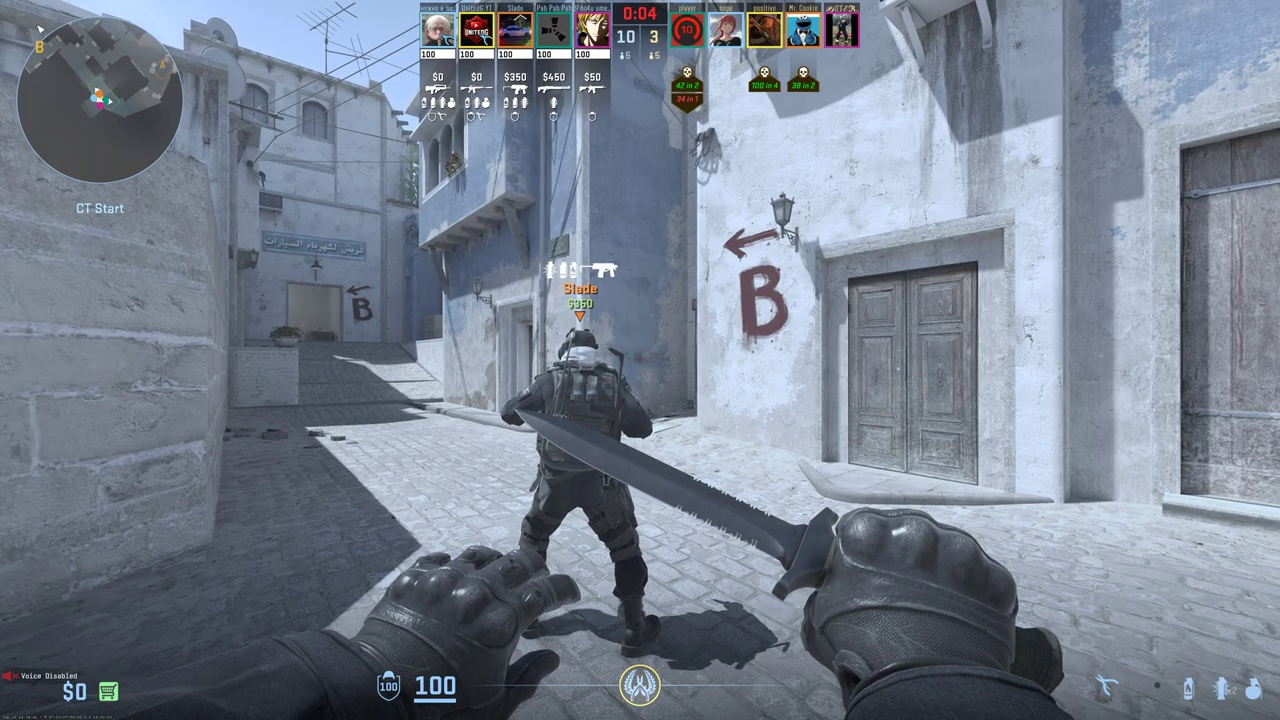CT: (517, 329, 648, 643)
